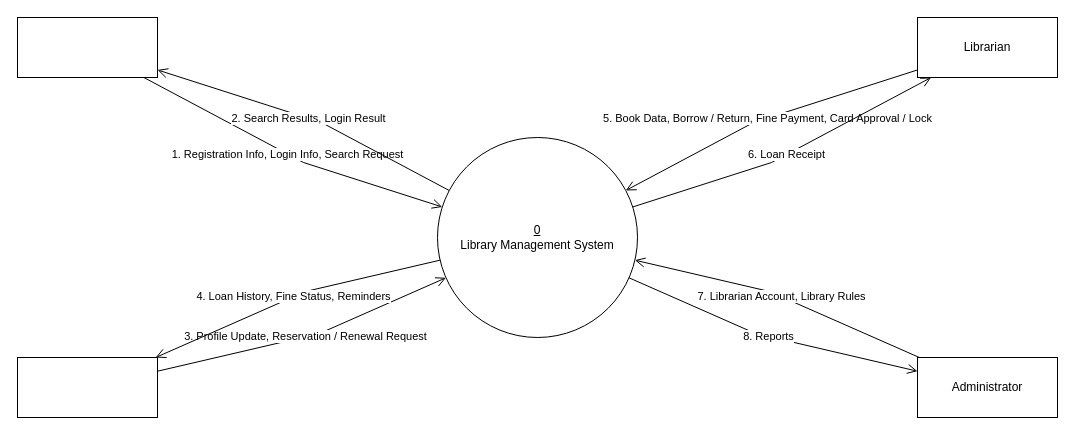
Some shapes in this 1075 by 435 pixel diagram are drawn without their labels. Each missing label, with the centre of its shape:
"Guest" belongs at pixel 87 47.
"Reader" belongs at pixel 87 387.
